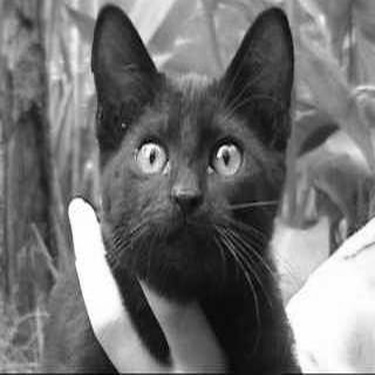cat: (46, 1, 342, 368)
